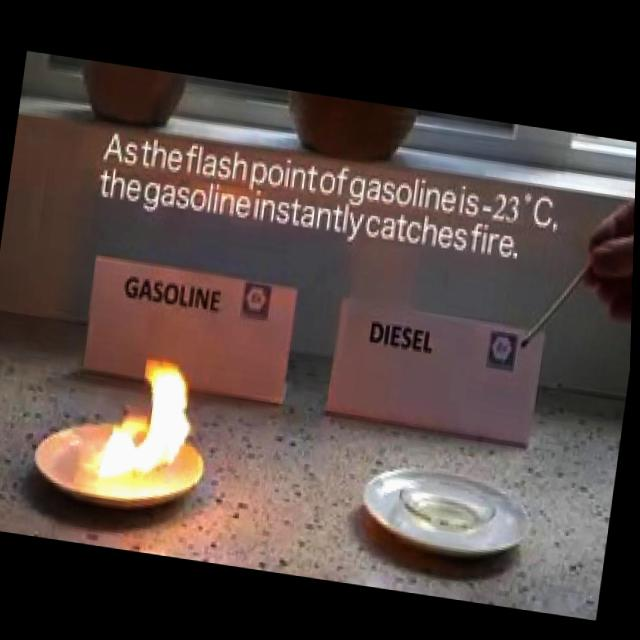Fire: (90, 341, 206, 489)
